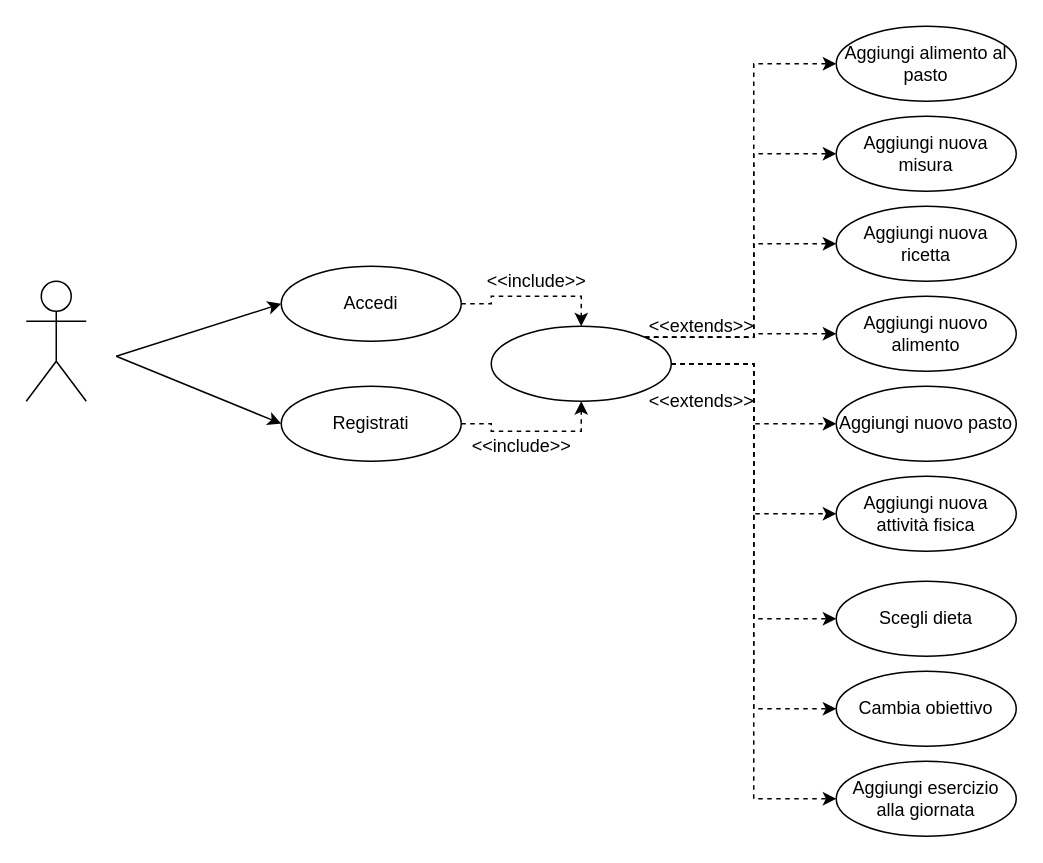
Image size: 1043x863. Some labels were removed from this diagram. Each missing label, with the centre of its shape:
Autenticazione: the point at 580,363
User: the point at 55,340
